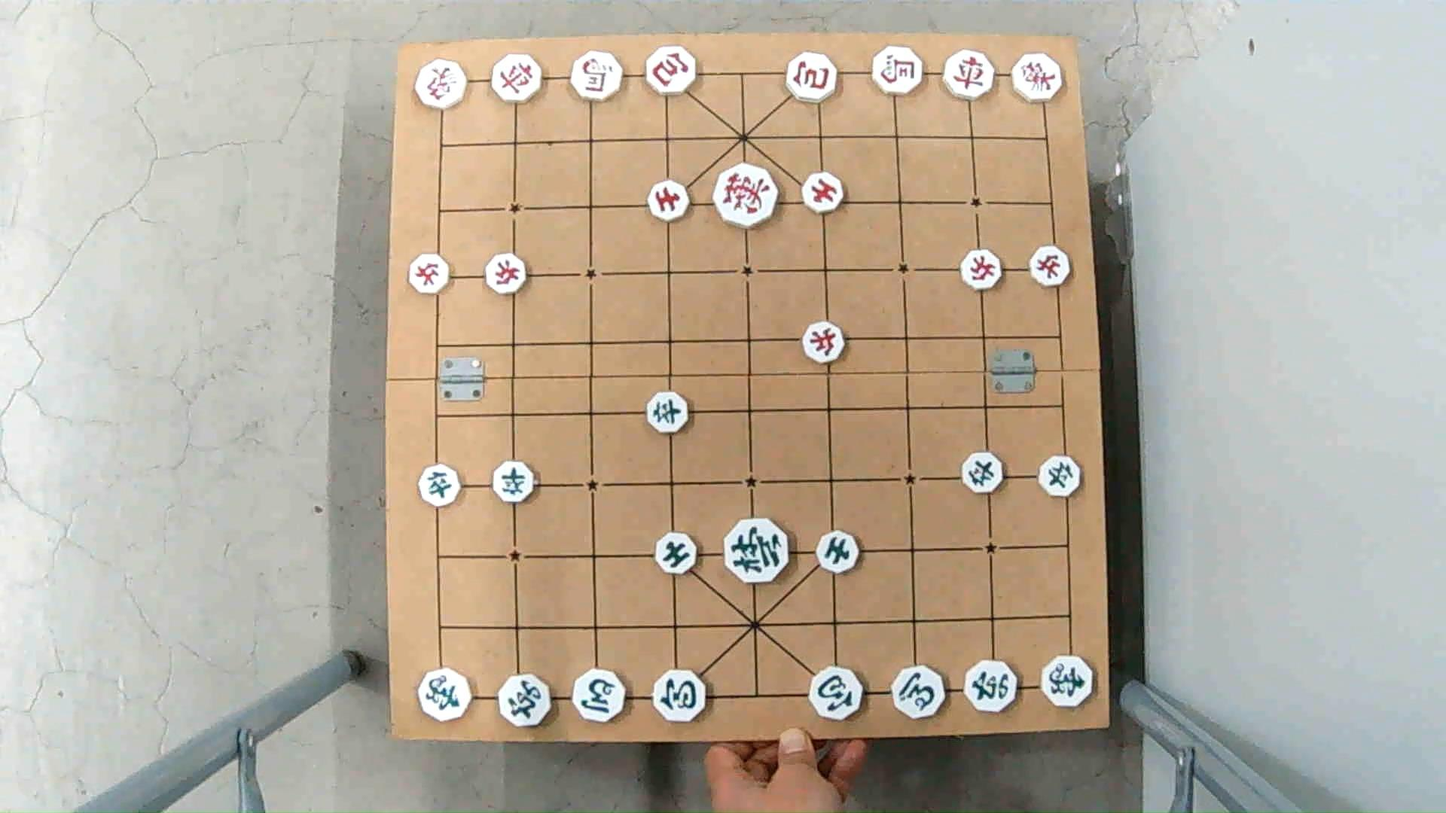cha_green: (962, 659, 1020, 714), (496, 678, 555, 727)
cha_red: (488, 58, 545, 103), (941, 55, 999, 99)
jol_green: (957, 452, 1007, 496), (1040, 452, 1084, 499), (642, 394, 690, 432), (416, 467, 465, 503), (490, 466, 538, 502)
jol_red: (800, 321, 848, 364), (482, 256, 530, 292), (405, 256, 452, 292), (958, 253, 1005, 288), (1027, 249, 1072, 285)
ma_green: (572, 671, 631, 720), (888, 668, 950, 714)
ma_red: (871, 48, 928, 92), (569, 54, 621, 99)
po_green: (806, 671, 865, 720), (649, 674, 707, 723)
po_red: (784, 58, 843, 102), (644, 51, 702, 95)
sa_green: (812, 534, 862, 571), (650, 536, 700, 571)
sa_red: (799, 171, 847, 213), (643, 183, 691, 220)
sang_green: (415, 671, 472, 720), (1039, 658, 1097, 704)
sang_red: (413, 64, 471, 108), (1007, 58, 1064, 101)
wang_green: (722, 522, 792, 580)
wang_red: (715, 166, 786, 224)
